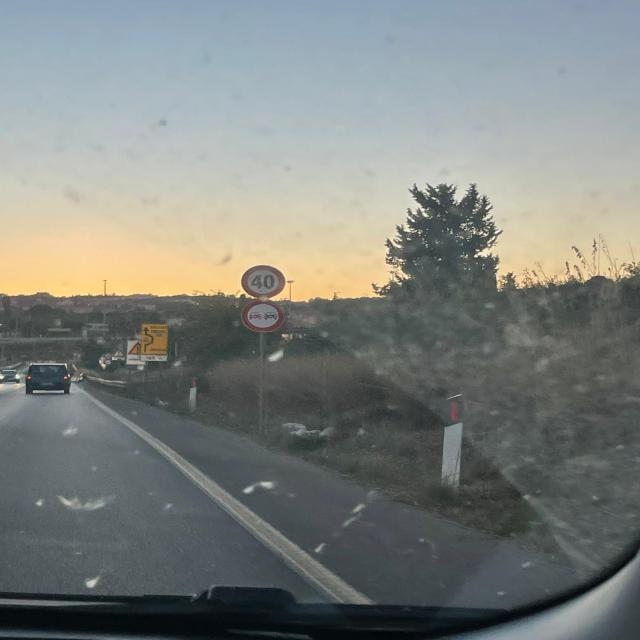forb_overtake: (238, 299, 288, 334)
forb_speed_over_40: (241, 263, 287, 298)
